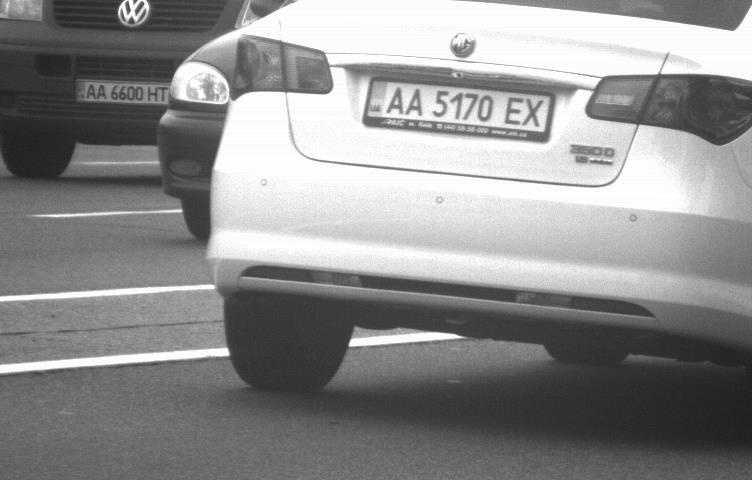car license plate: (362, 77, 552, 142), (74, 77, 169, 110)
